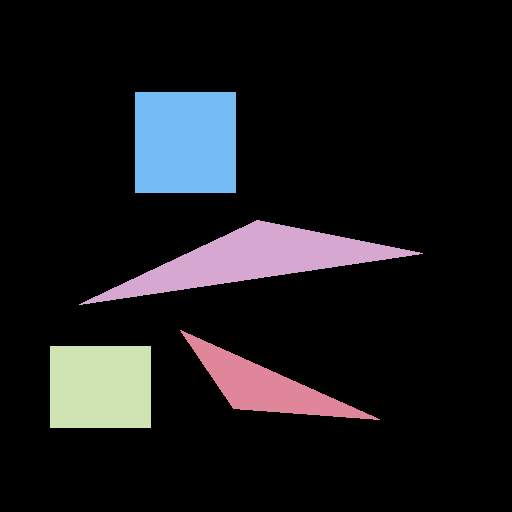rectangle: (50, 346, 150, 427)
square: (135, 92, 235, 192)
triangle: (79, 220, 422, 304), (180, 330, 379, 419)
